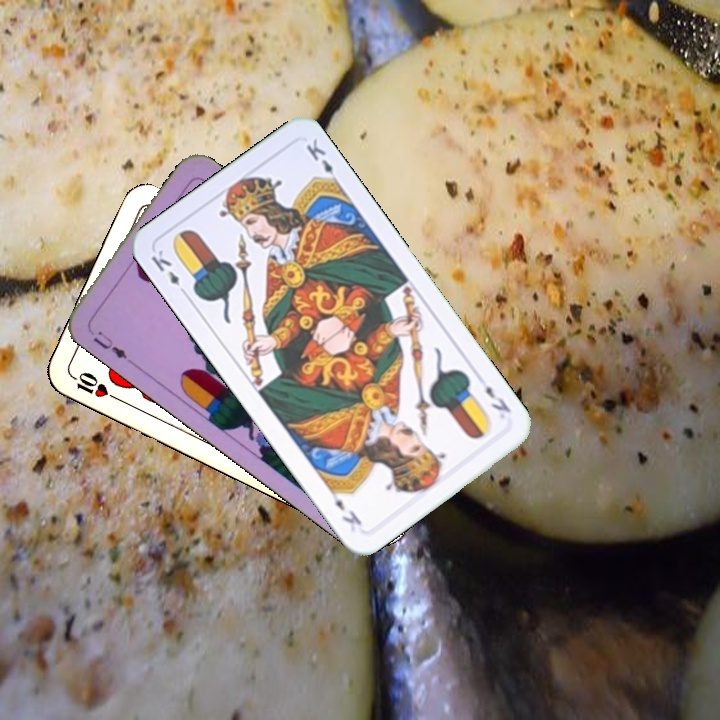EK: (147, 245, 191, 299), (481, 381, 514, 416)
EU: (89, 326, 135, 366)
H10: (65, 368, 120, 403)
